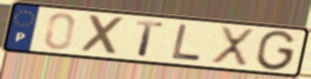0: (42, 11, 77, 51)
G: (253, 29, 299, 72)
L: (169, 22, 203, 63)
T: (134, 19, 165, 59)
X: (79, 13, 128, 57), (209, 25, 257, 69)
